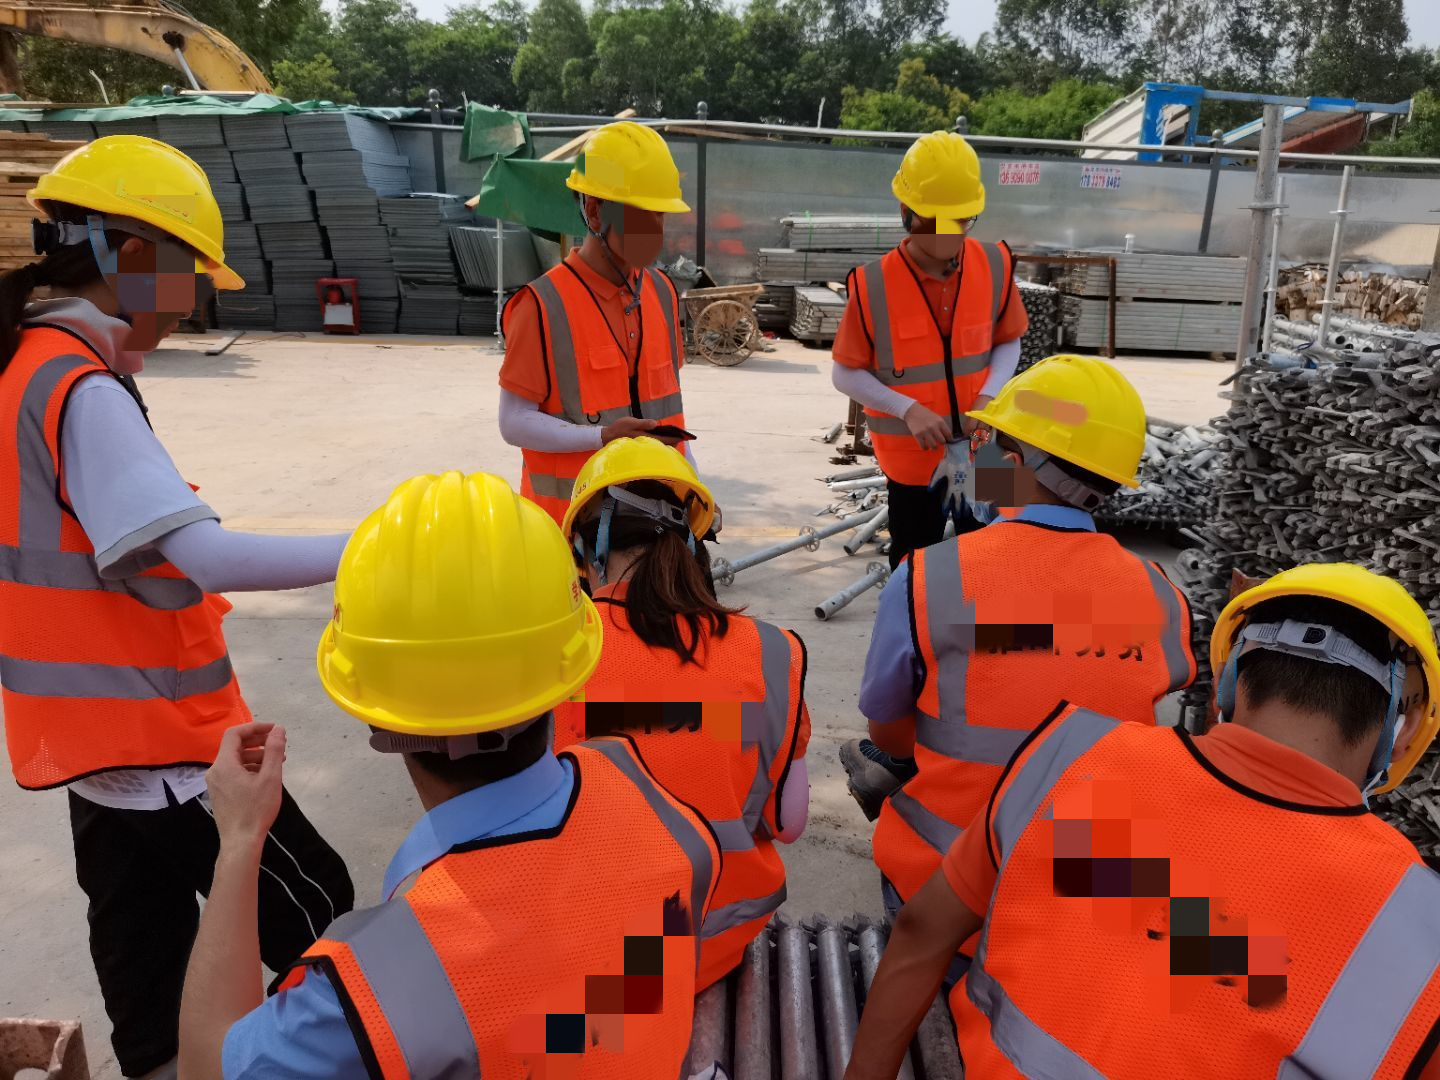helmet: (317, 469, 603, 728), (1209, 562, 1440, 808), (28, 137, 242, 290), (973, 340, 1141, 487), (581, 436, 721, 541), (560, 114, 692, 213), (893, 126, 987, 217)
person: (841, 530, 1440, 1080), (243, 459, 704, 1080), (1, 136, 301, 1080), (853, 341, 1179, 917), (540, 429, 812, 969), (490, 82, 725, 529), (816, 109, 1037, 531)
vest: (949, 727, 1430, 1080), (875, 527, 1196, 923), (326, 751, 712, 1080), (7, 323, 245, 766), (590, 588, 802, 959), (845, 239, 1028, 482), (523, 256, 690, 448)
